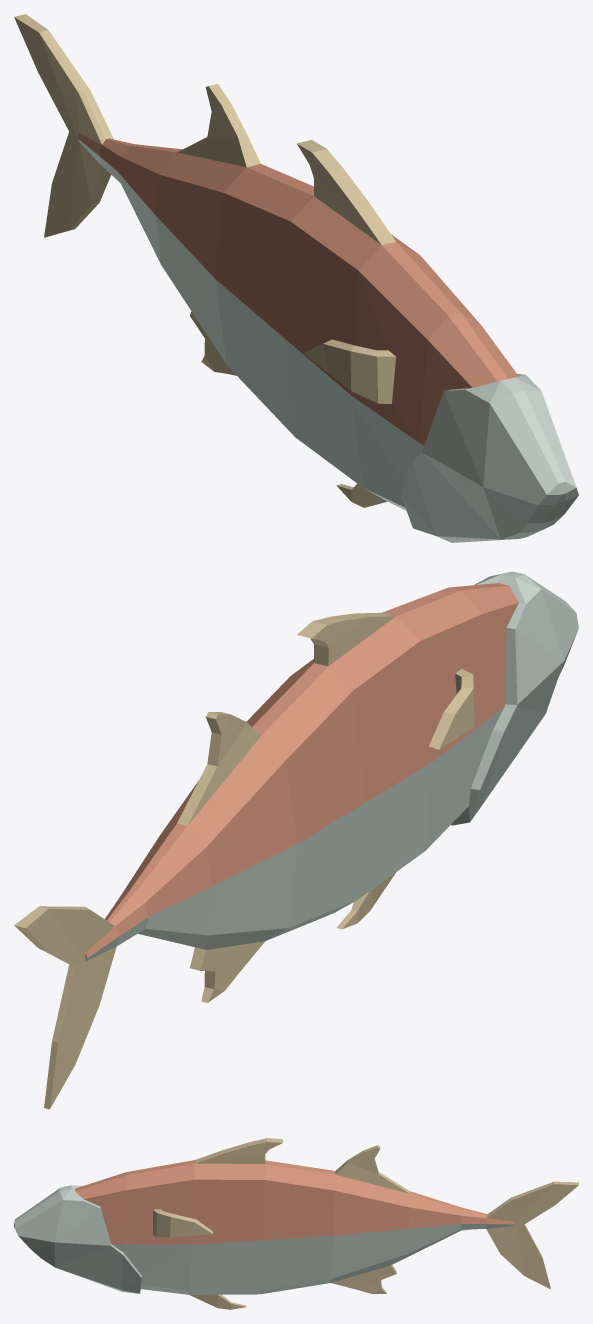
File: Fish1.glb
The picture shows the model from 3 angles, top to bottom: view 1: azimuth 30°, elevation 25°; view 2: azimuth 150°, elevation 25°; view 3: azimuth 270°, elevation 25°; orthographic projection. The views are drawn at different scales.
Parts seen in each view (by area): view 1: Fish1; view 2: Fish1; view 3: Fish1.
Part boxes in pixels (<box>): Fish1: <box>14,14,578,542</box>; Fish1: <box>14,571,578,1109</box>; Fish1: <box>14,1138,578,1309</box>.
Bounding box in the file's own units: 0.1216 × 0.2792 × 0.8453.
